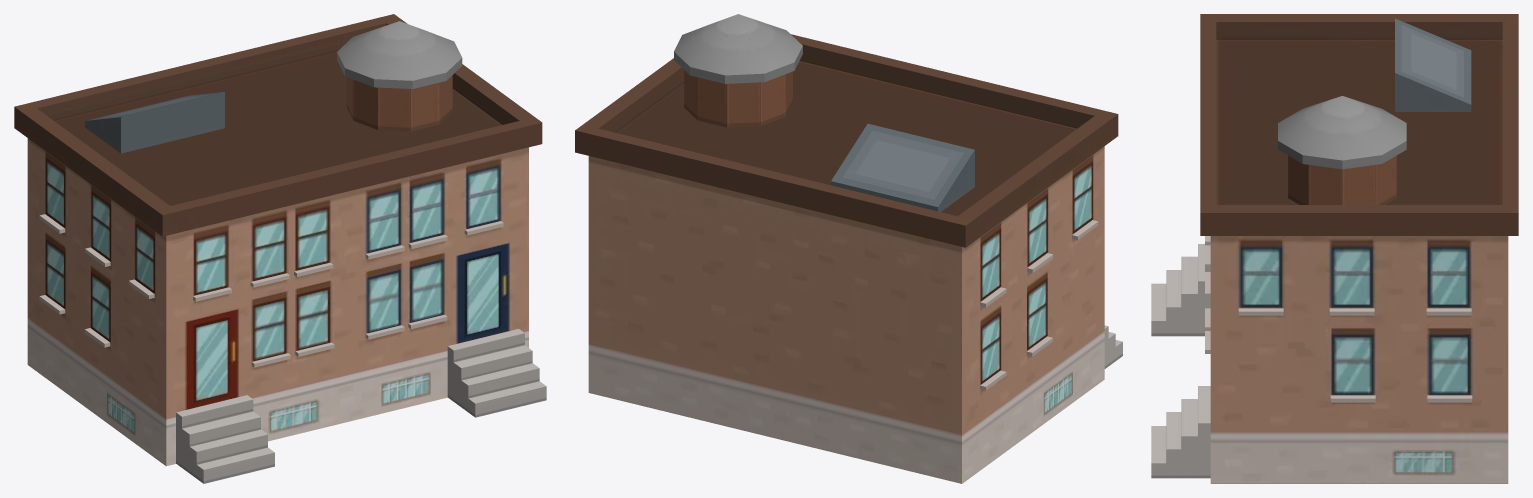
File: city_building_01.glb
3 views of the same model, side by side, from view 1: azimuth 30°, elevation 25°; view 2: azimuth 150°, elevation 25°; view 3: azimuth 270°, elevation 25° (orthographic). The views are drawn at different scales.
Parts seen in each view (by area): view 1: city:polySurface335; view 2: city:polySurface335; view 3: city:polySurface335.
Part boxes in pixels (x1,y1,x2,y2): city:polySurface335: (14,14,546,483); city:polySurface335: (575,14,1122,483); city:polySurface335: (1151,14,1518,483).
Bounding box in the file's own units: 10.49 × 8.67 × 8.19.
1 material, 1 textured.
